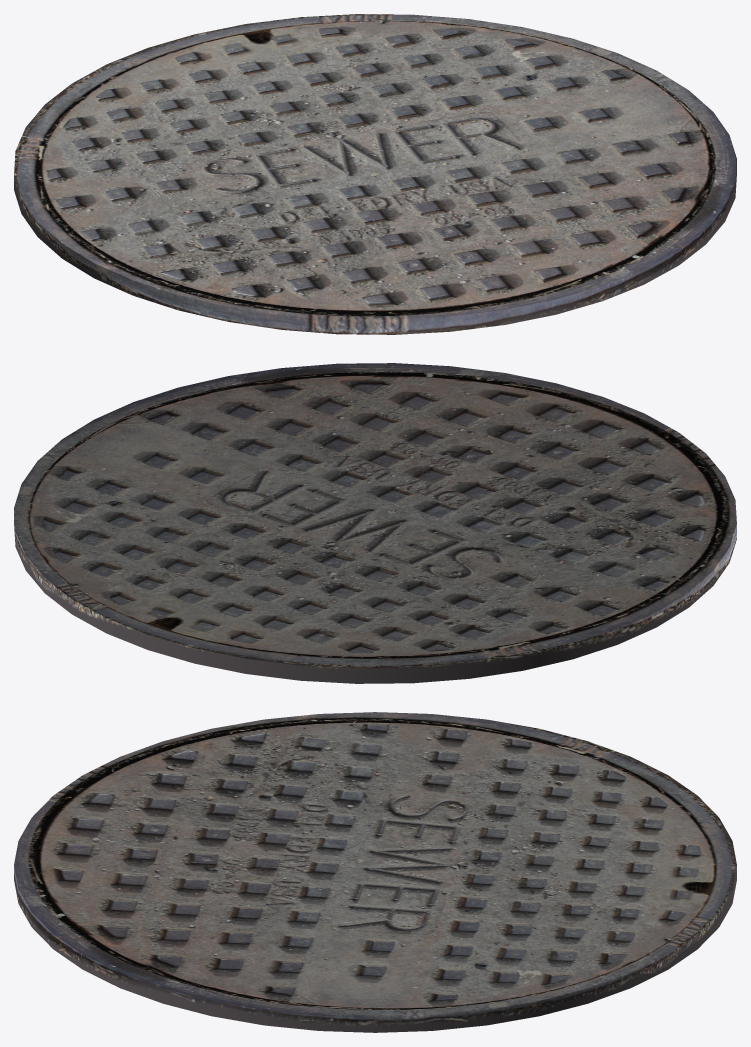
File: Coladera1.obj
3 views of the same model, one above another, from view 1: azimuth 30°, elevation 25°; view 2: azimuth 150°, elevation 25°; view 3: azimuth 270°, elevation 25° (orthographic).
Visible parts, largest first — view 1: Manhole; view 2: Manhole; view 3: Manhole.
Part boxes in pixels (box(x1,y1,x2,y2)): Manhole: box(14, 14, 736, 334); Manhole: box(14, 363, 736, 683); Manhole: box(14, 712, 736, 1032).
Bounding box in the file's own units: 8.42 × 0.196 × 8.42.
